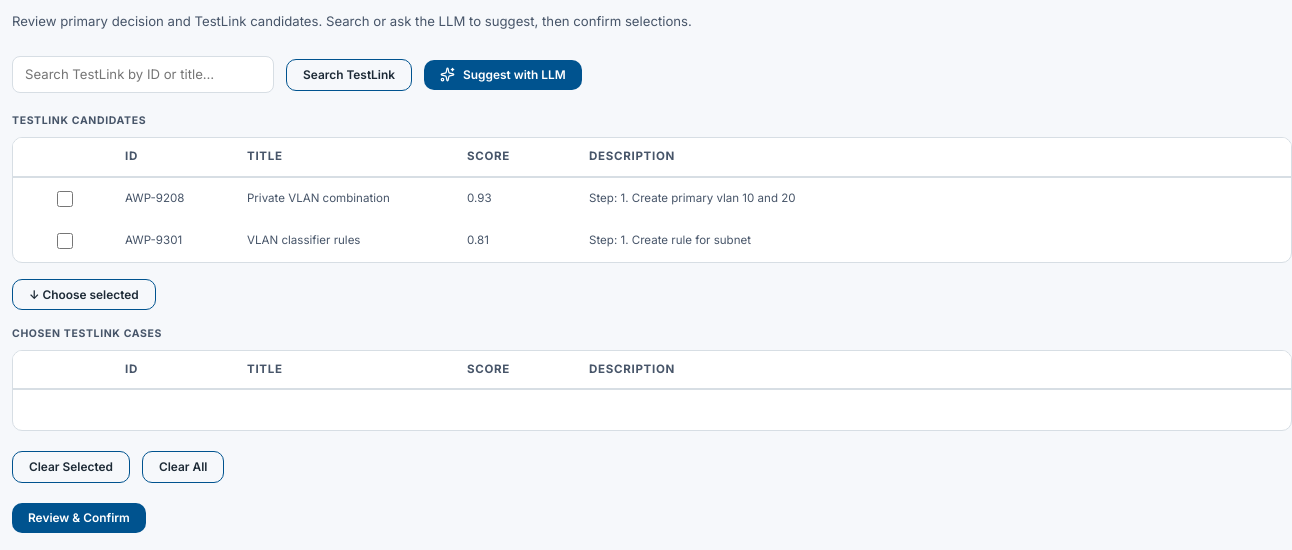
Scenario: OgCandidatePicker › search › replaces the candidates with the results
In the field with placeholder "Search TestLink by ID or title…": (143, 75) x1=12 y1=56 x2=274 y2=93, type "Master"
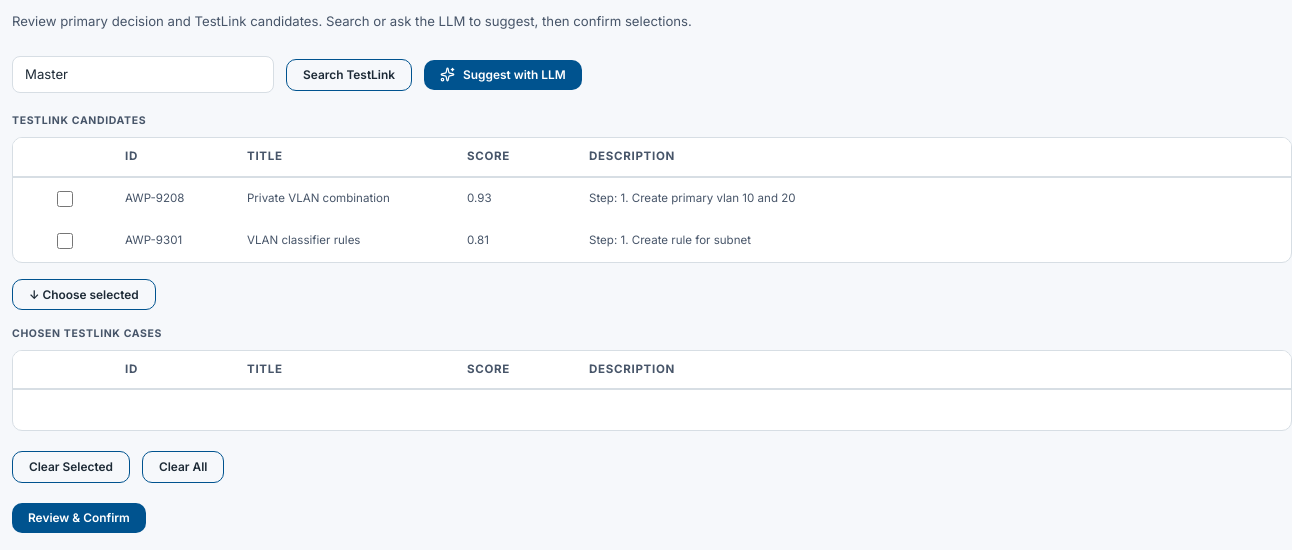
Click the button "Search TestLink": (349, 75) x1=286 y1=59 x2=412 y2=91
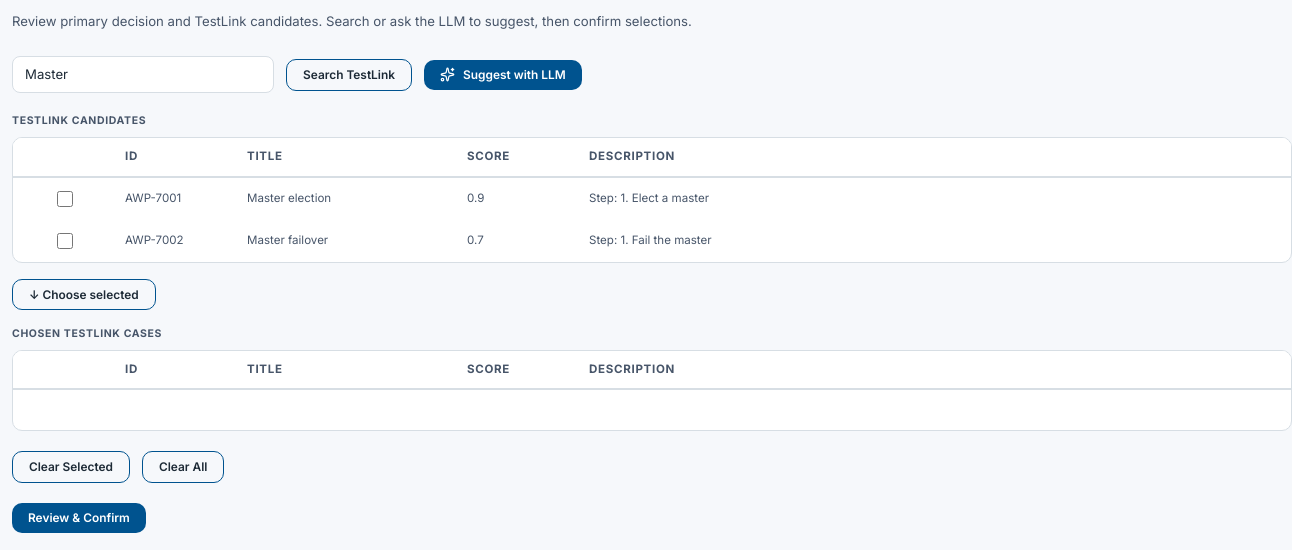
Expected: the text "AWP-7001" is shown, x1=125 y1=191 x2=181 y2=205
Expected: the text "AWP-7002" is shown, x1=125 y1=233 x2=184 y2=247
Expected: the button "AWP-9208" is gone
